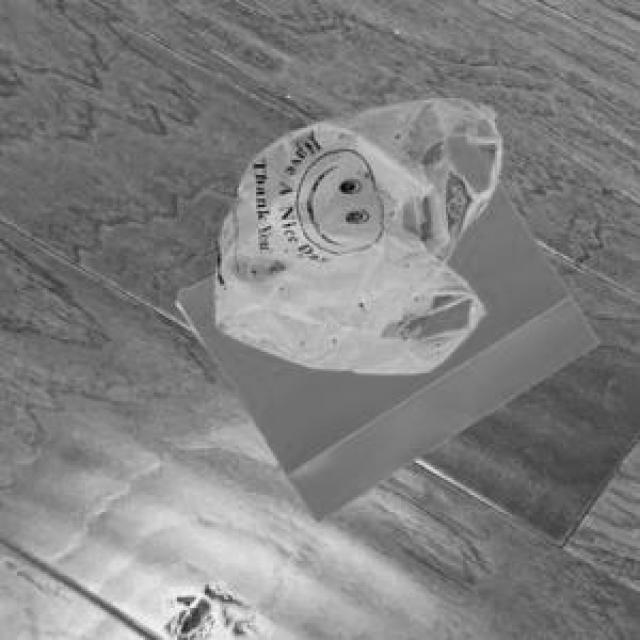paper: (173, 132, 595, 518)
